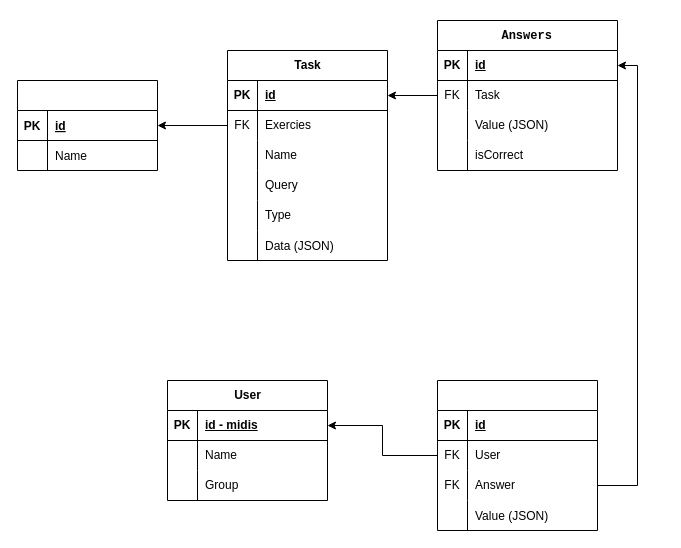
Image size: 681x548. Some labels were removed from this diagram. The shapes that lost their labels are listed below. From the top down, each one's box as (x1, y1, x2, y2) in pixels, then its label:
(16, 80, 158, 170): Exercise
(436, 380, 598, 530): User Response
